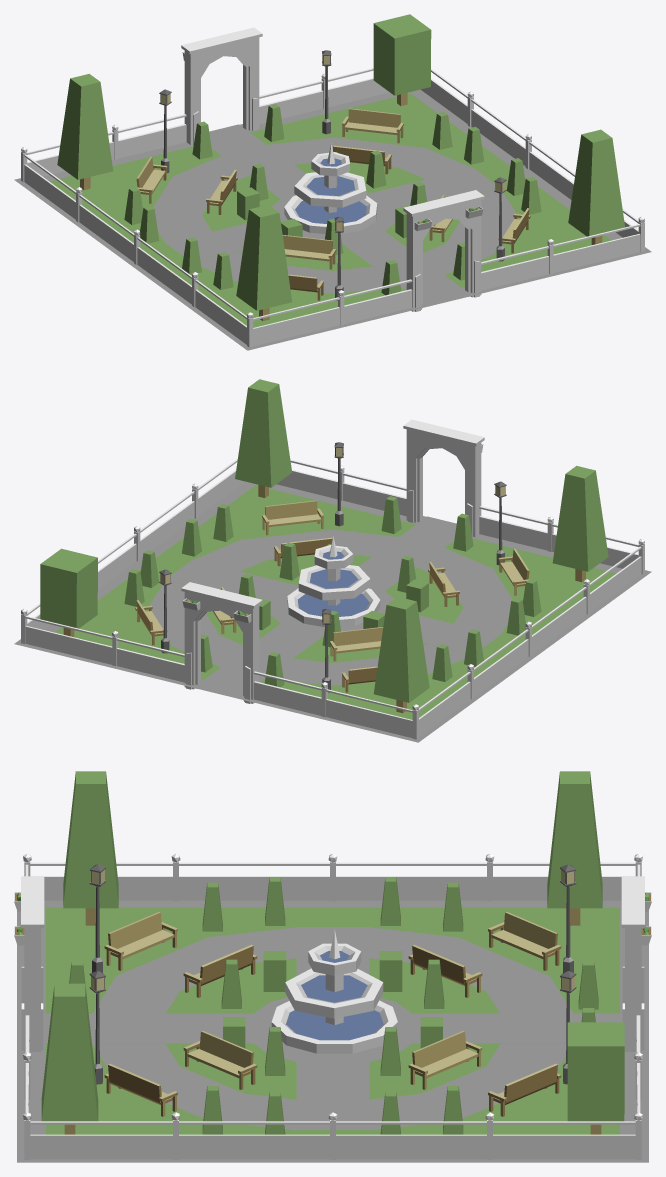
Rendered from park_003.glb.
The picture shows the model from 3 angles, top to bottom: view 1: azimuth 30°, elevation 25°; view 2: azimuth 150°, elevation 25°; view 3: azimuth 270°, elevation 25°; orthographic projection. The views are drawn at different scales.
Visible parts, largest first — view 1: park_003; view 2: park_003; view 3: park_003.
Part boxes in pixels (left/top/right/bottom): park_003: left=14, top=14, right=651, bottom=350; park_003: left=14, top=379, right=651, bottom=742; park_003: left=14, top=771, right=651, bottom=1162.
Bounding box in the file's own units: 16 × 4.85 × 16.16.
1 material, 1 textured.
